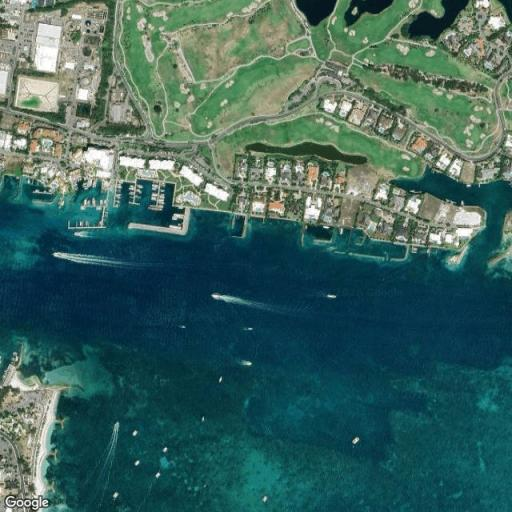ship: (50, 249, 80, 262), (158, 441, 170, 457), (240, 355, 254, 367), (352, 432, 363, 447), (109, 491, 123, 500), (71, 232, 91, 238), (324, 292, 338, 300), (132, 424, 139, 440), (216, 375, 227, 385), (80, 196, 88, 208), (115, 421, 122, 434), (146, 207, 164, 212), (212, 293, 222, 301), (202, 412, 208, 424), (134, 459, 143, 467), (87, 197, 93, 208), (264, 495, 271, 504), (179, 326, 189, 332), (156, 468, 161, 480), (168, 225, 182, 229), (174, 213, 185, 218), (340, 226, 345, 236), (92, 198, 98, 206), (247, 326, 255, 332), (460, 198, 466, 206), (158, 202, 167, 206), (322, 226, 331, 230), (152, 196, 156, 203), (159, 189, 166, 193), (304, 224, 308, 231), (137, 190, 143, 194), (135, 196, 143, 199), (151, 185, 159, 188), (159, 196, 167, 199), (116, 196, 122, 200), (466, 184, 472, 188), (118, 186, 124, 189), (158, 200, 166, 202), (129, 185, 134, 188), (137, 186, 144, 188), (152, 188, 158, 190), (80, 221, 82, 227), (117, 201, 121, 204), (427, 249, 429, 254), (152, 194, 156, 196)
